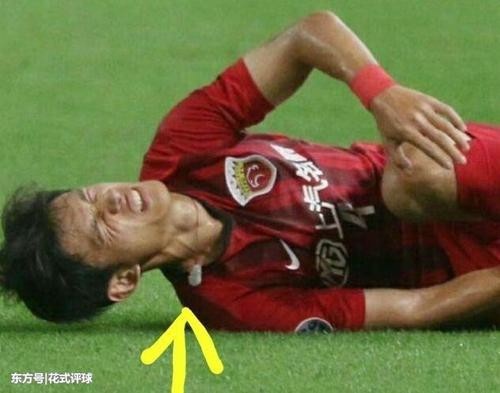down: (1, 6, 500, 341)
